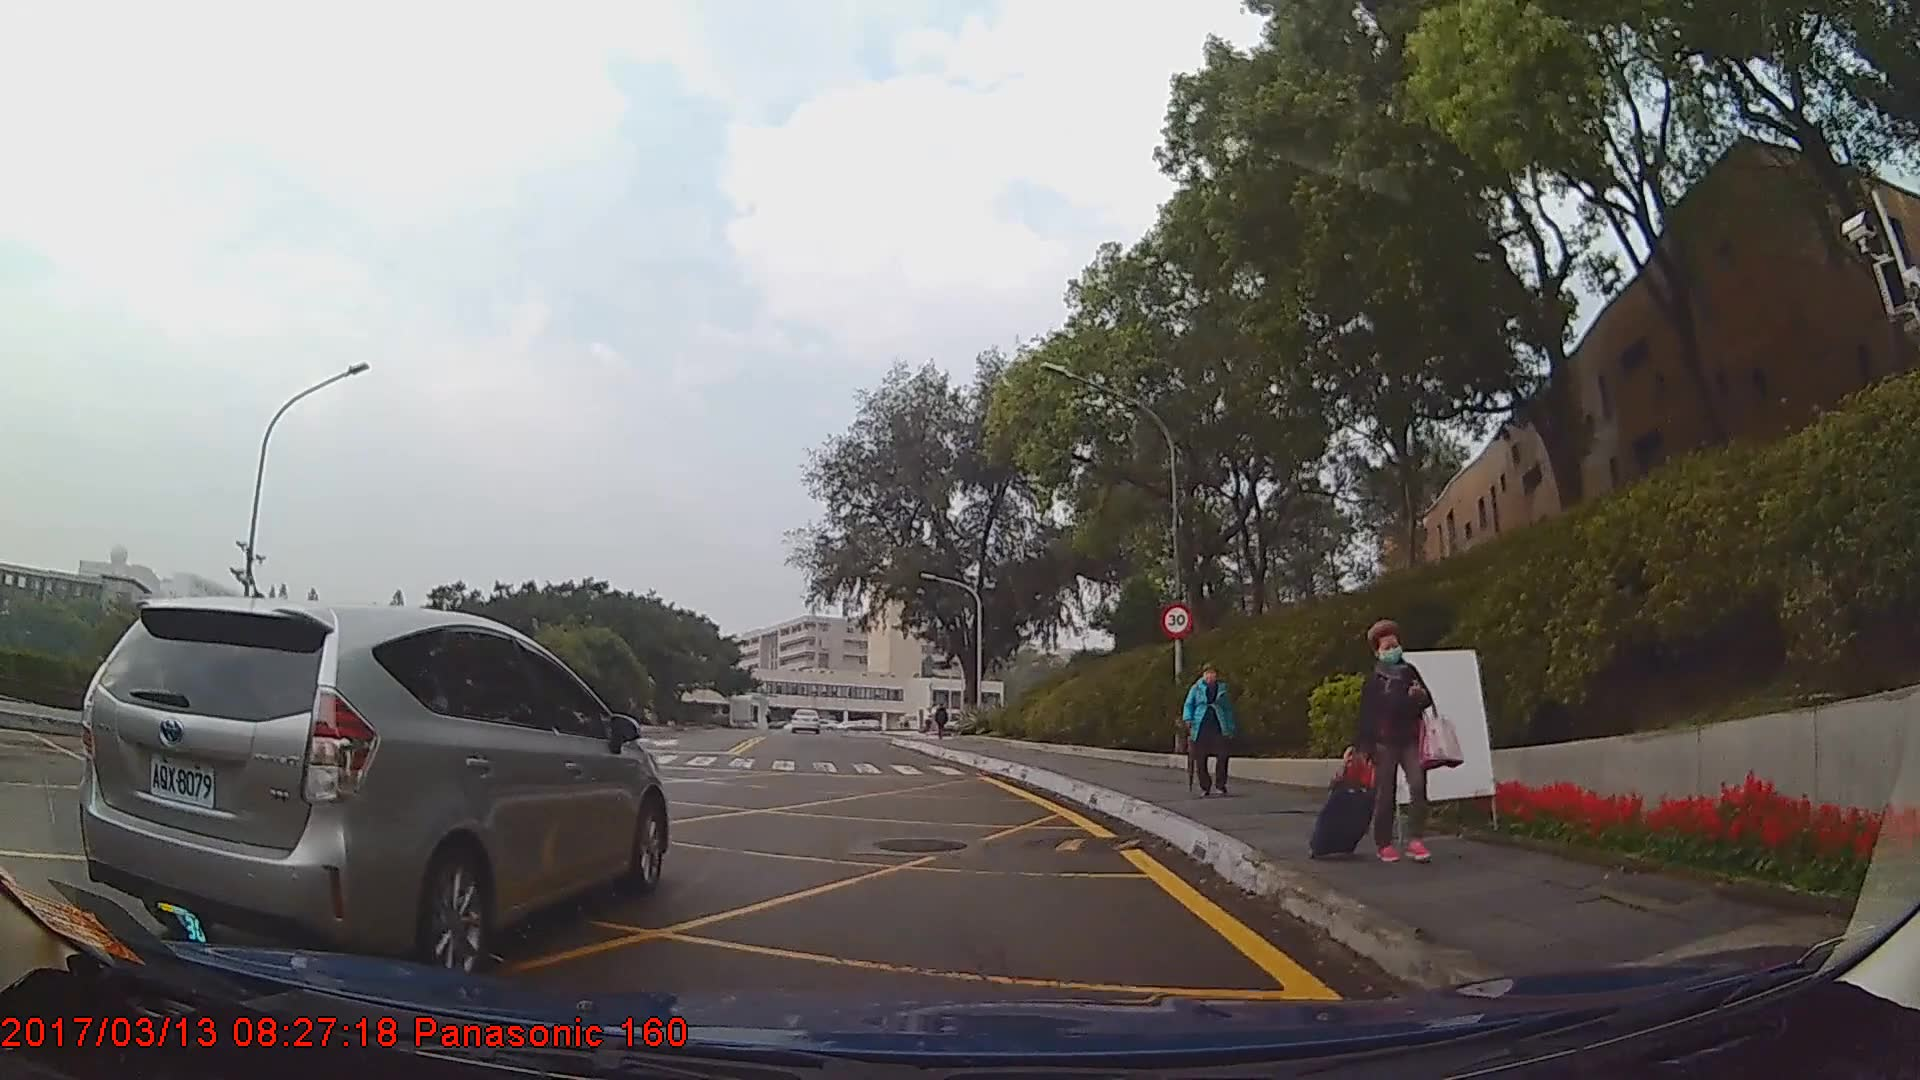pedestrian: (1309, 622, 1465, 867), (1180, 665, 1241, 799)
vehicle: (81, 594, 670, 974), (788, 706, 822, 733)
